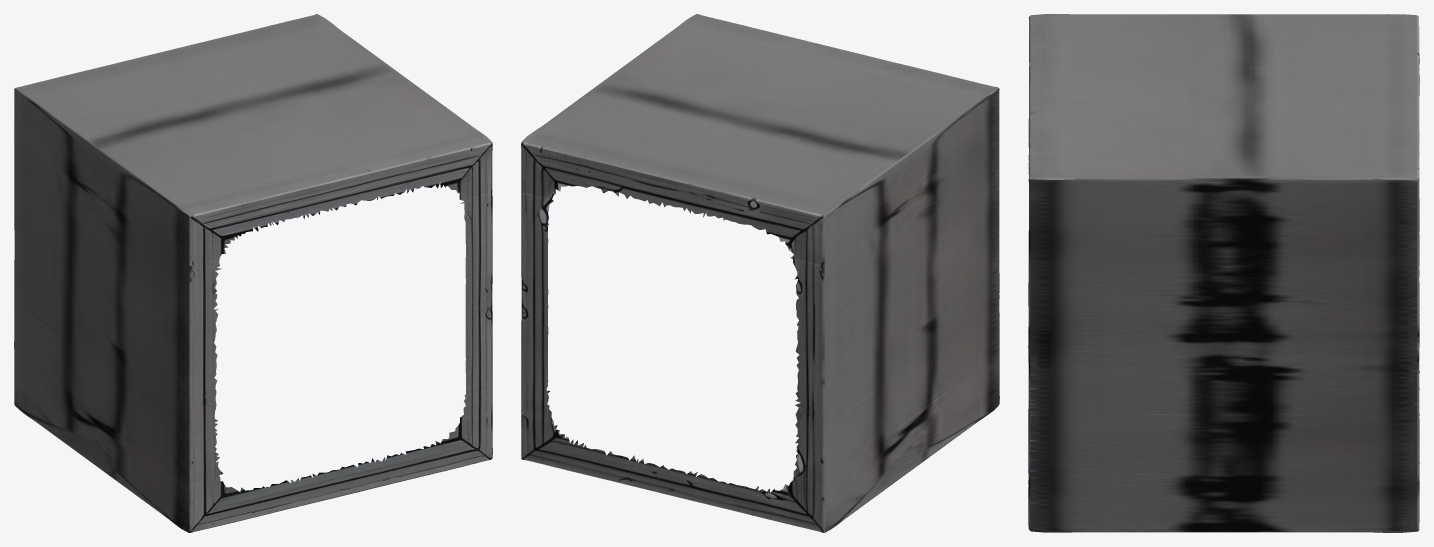
The model's file is window-broken-pane.glb.
The picture shows the model from 3 angles, left to right: view 1: azimuth 30°, elevation 25°; view 2: azimuth 150°, elevation 25°; view 3: azimuth 270°, elevation 25°; orthographic projection. The views are drawn at different scales.
Parts seen in each view (by area): view 1: tmp31zlkzye.ply; view 2: tmp31zlkzye.ply; view 3: tmp31zlkzye.ply.
Part boxes in pixels (left/top/right/bottom): tmp31zlkzye.ply: left=14, top=14, right=492, bottom=532; tmp31zlkzye.ply: left=521, top=14, right=999, bottom=532; tmp31zlkzye.ply: left=1028, top=14, right=1419, bottom=532.
Size of the model in its own units: 1 by 1 by 1.
1 material, 1 textured.
